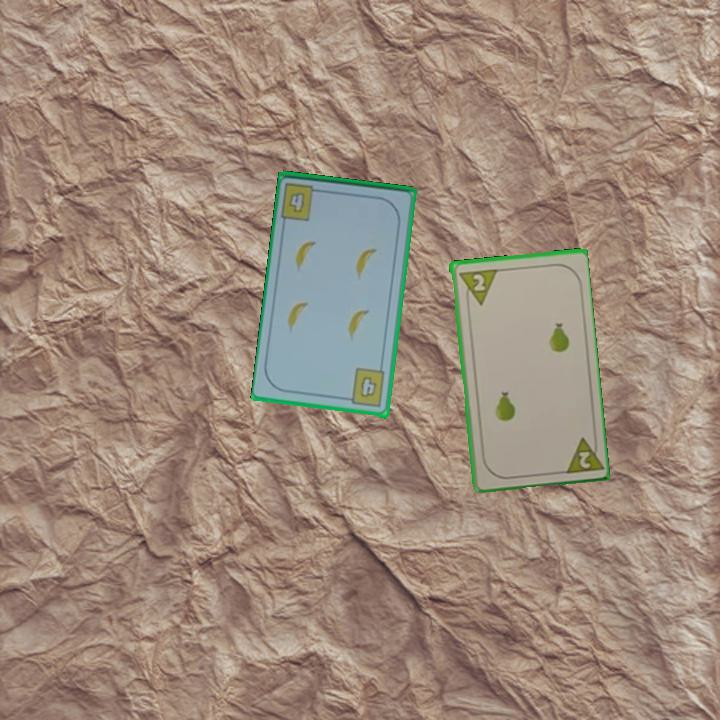2p: (560, 431, 604, 476), (468, 270, 487, 294)
4b: (278, 179, 326, 223), (342, 365, 388, 410)
